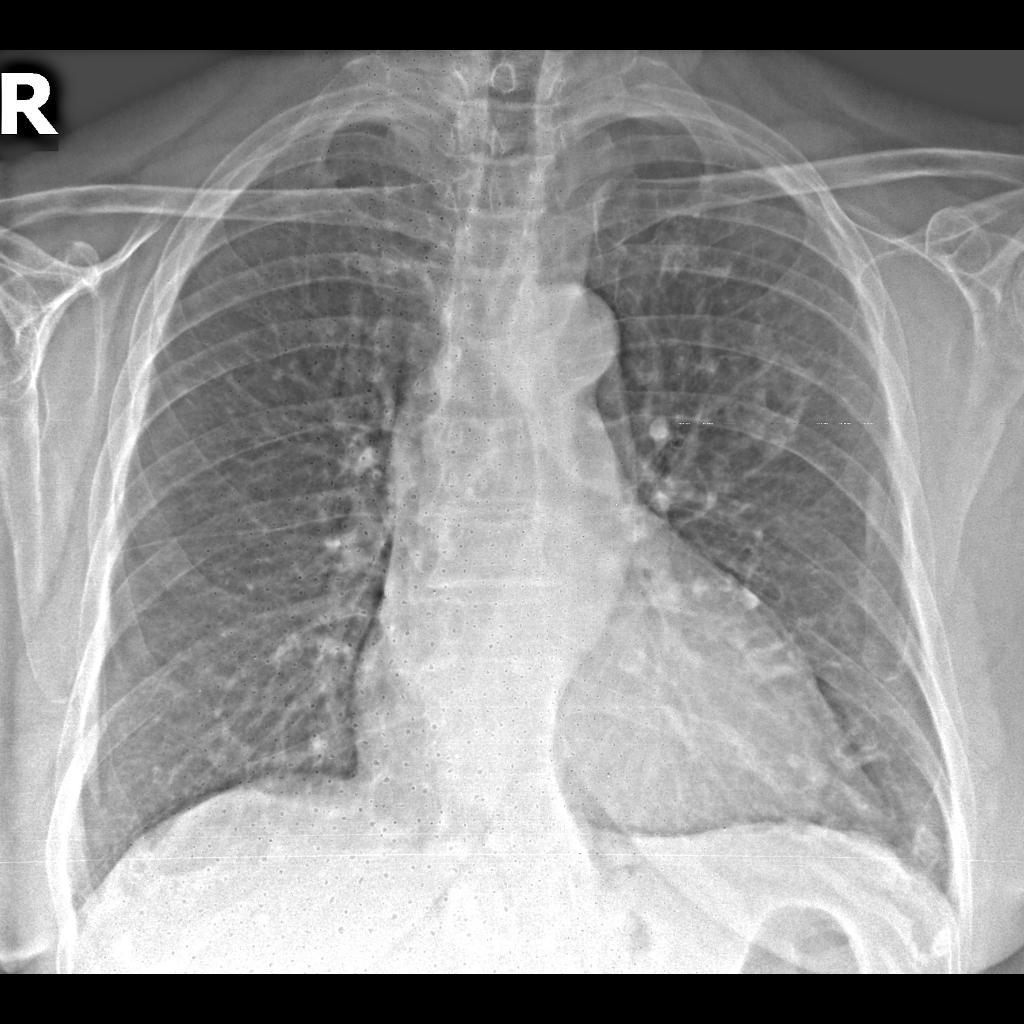Nodule: (729, 361, 815, 456)
